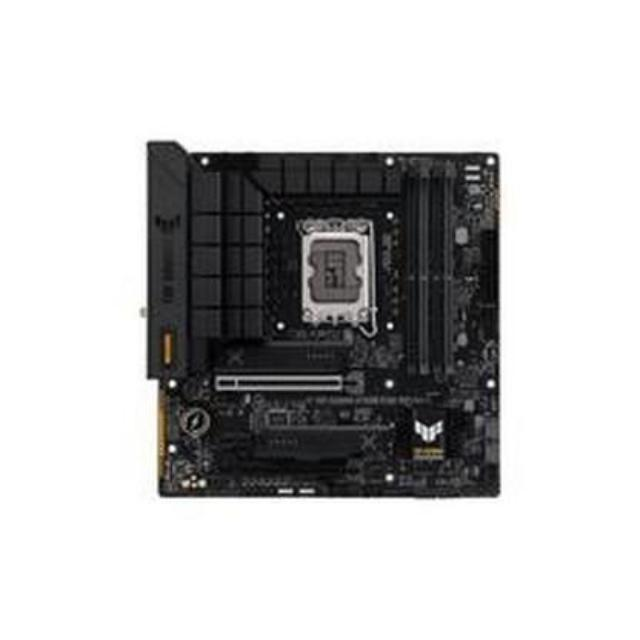Mainboard: (138, 134, 507, 506)
